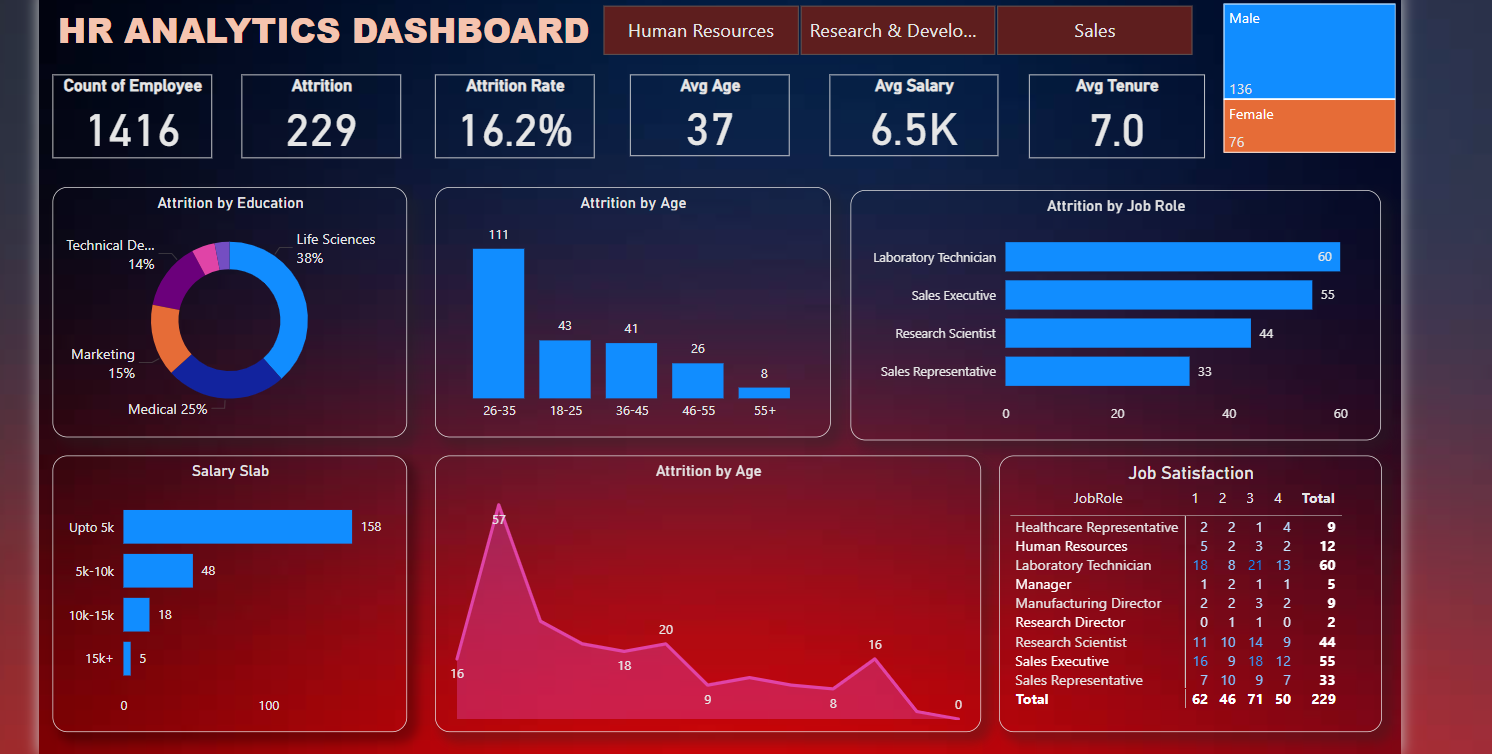

The page's visual inventory and layout, read from the dashboard file:
{"tool":"powerbi","page":{"name":"Page 1","canvas":[1280,720],"ordinal":0},"visuals":[{"type":"card","title":"Count of Employee","fields":{"Values":["CountNonNull(HR_Analytics.EmpID)"]},"box":[13.3,80,150,78.3],"z":0},{"type":"card","title":"Attrition  ","fields":{"Values":["Sum(HR_Analytics.AttritionCount)"]},"box":[190,80,150,78.3],"z":1000},{"type":"card","title":"Attrition Rate","fields":{"Values":["HR_Analytics.AttritionRate"]},"box":[371.7,80,150,78.3],"z":2000},{"type":"card","title":"Avg Age","fields":{"Values":["HR_Analytics.AverageAge"]},"box":[555,80,150,76.7],"z":3000},{"type":"card","title":"Avg Salary","fields":{"Values":["Avg(HR_Analytics.MonthlyIncome)"]},"box":[743.3,80,158.3,76.7],"z":4000},{"type":"card","title":"Avg Age","fields":{"Values":["Avg(HR_Analytics.YearsAtCompany)"]},"box":[930,80,165,78.3],"z":5000},{"type":"donutChart","title":"Attrition  by Education","fields":{"Category":["HR_Analytics.EducationField"],"Y":["Sum(HR_Analytics.AttritionCount)"]},"box":[13.3,186.7,333.3,235],"z":6000},{"type":"columnChart","title":"Attrition  by Age","fields":{"Category":["HR_Analytics.AgeGroup"],"Y":["Sum(HR_Analytics.AttritionCount)"]},"box":[371.7,186.7,371.7,235],"z":7000},{"type":"pivotTable","title":"Job  Satisfaction","fields":{"Columns":["HR_Analytics.JobSatisfaction"],"Rows":["HR_Analytics.JobRole"],"Values":["Sum(HR_Analytics.AttritionCount)"]},"box":[901.7,438.3,360,260],"z":8000},{"type":"clusteredBarChart","title":"Salary Slab","fields":{"Y":["Sum(HR_Analytics.AttritionCount)"],"Category":["HR_Analytics.SalarySlab"]},"box":[13.3,438.3,333.3,260],"z":9000},{"type":"clusteredBarChart","title":"Attrition  by Job Role","fields":{"Category":["HR_Analytics.JobRole"],"Y":["Sum(HR_Analytics.AttritionCount)"]},"box":[763.3,188.3,498.3,235],"z":10000},{"type":"areaChart","title":"Attrition  by Age","fields":{"Category":["HR_Analytics.YearsAtCompany"],"Y":["Sum(HR_Analytics.AttritionCount)"]},"box":[371.7,438.3,513.3,260],"z":11000},{"type":"treemap","title":"Attrition  by Age","fields":{"Values":["Sum(HR_Analytics.AttritionCount)"],"Group":["HR_Analytics.Gender"]},"box":[1108.3,8.3,171.7,150],"z":12000},{"type":"slicer","fields":{"Values":["HR_Analytics.Department"]},"box":[505,8.3,603.3,60],"z":13000},{"type":"textbox","box":[13.3,10,546.7,60],"z":13001}]}

Visuals, with their boxes on the page's 1280x720 design canvas (x1, y1, x2, y2). These are canvas units, not pixel positions in the 1492x754 screenshot, which may show the page scaled, cropped or inside an application window:
"Count of Employee" card: BBox(13, 80, 163, 158)
"Attrition  " card: BBox(190, 80, 340, 158)
"Attrition Rate" card: BBox(372, 80, 522, 158)
"Avg Age" card: BBox(555, 80, 705, 157)
"Avg Salary" card: BBox(743, 80, 902, 157)
"Avg Age" card: BBox(930, 80, 1095, 158)
"Attrition  by Education" donutChart: BBox(13, 187, 347, 422)
"Attrition  by Age" columnChart: BBox(372, 187, 743, 422)
"Job  Satisfaction" pivotTable: BBox(902, 438, 1262, 698)
"Salary Slab" clusteredBarChart: BBox(13, 438, 347, 698)
"Attrition  by Job Role" clusteredBarChart: BBox(763, 188, 1262, 423)
"Attrition  by Age" areaChart: BBox(372, 438, 885, 698)
"Attrition  by Age" treemap: BBox(1108, 8, 1280, 158)
slicer - HR_Analytics.Department: BBox(505, 8, 1108, 68)
textbox: BBox(13, 10, 560, 70)
